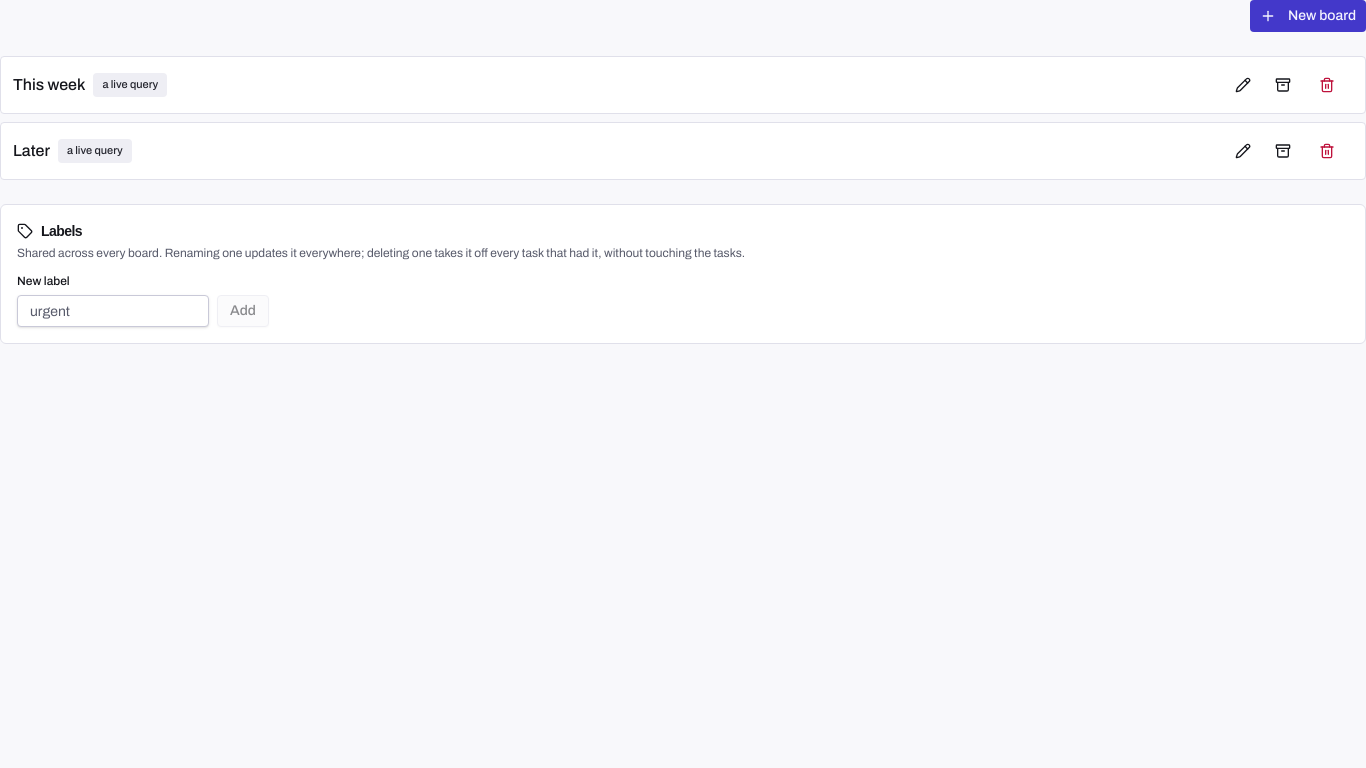
Scenario: BoardsList › opens the edit form prefilled with the board that was clicked
This screenshot has width=1366, height=768.
What coordinates should you click on to do the following:
click the button named "Edit Later"
I would click on:
 (1243, 151)
Its box is x1=1225 y1=135 x2=1261 y2=167.
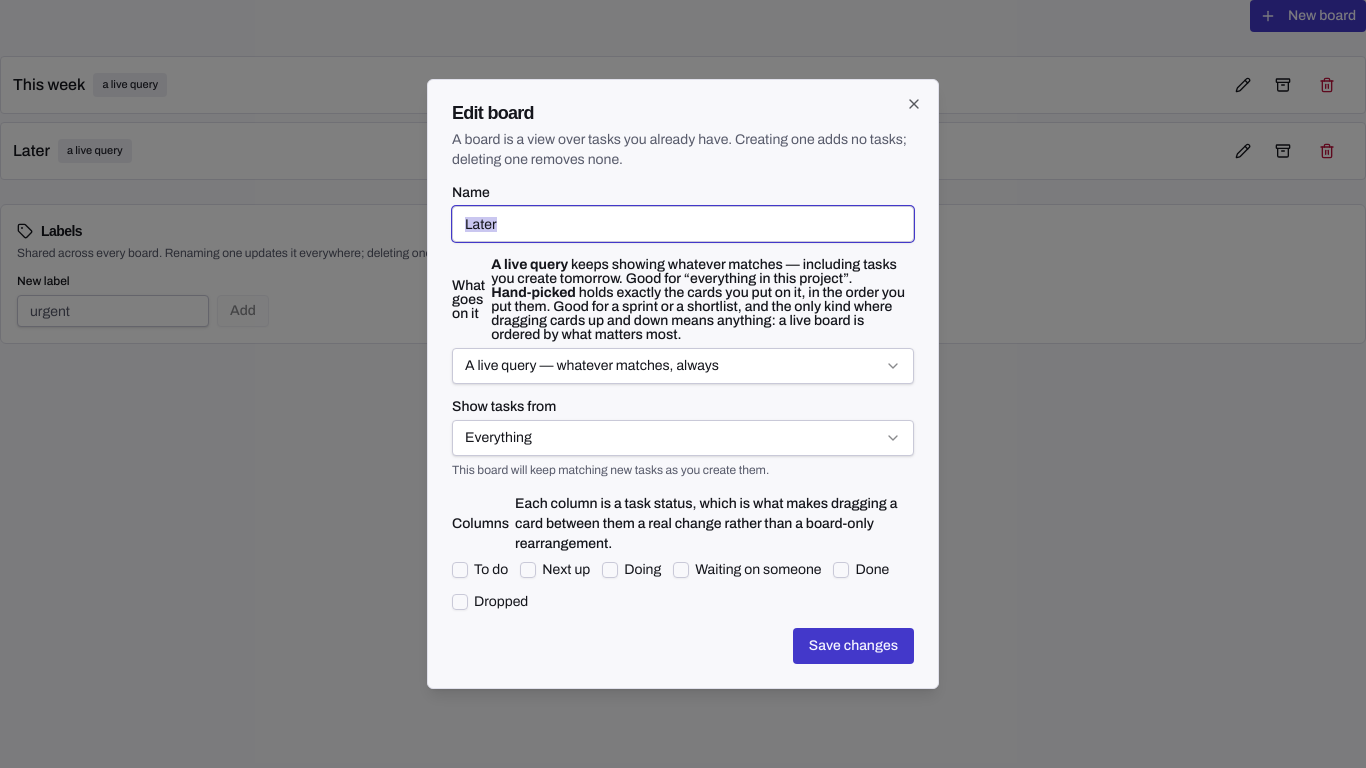
expect the field labelled "Name" holds "Later": met, box x1=452 y1=206 x2=914 y2=242
